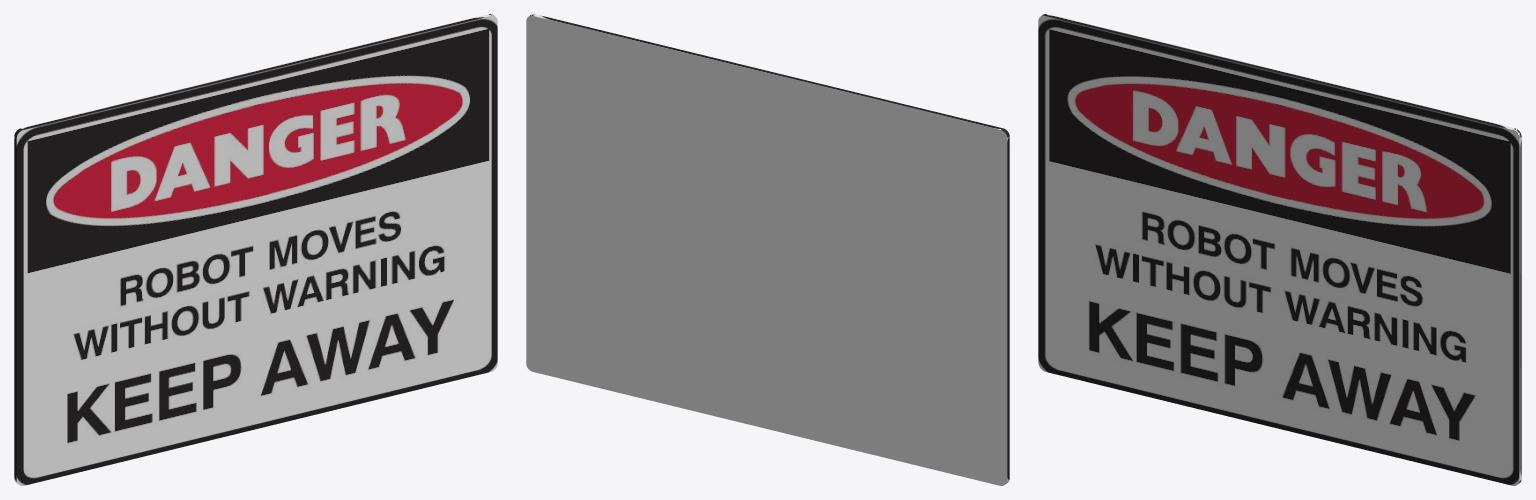
3 views of the same model, side by side, from view 1: azimuth 30°, elevation 25°; view 2: azimuth 150°, elevation 25°; view 3: azimuth 330°, elevation 25° (orthographic).
Parts seen in each view (by area): view 1: Danger_sign; view 2: Danger_sign (×2); view 3: Danger_sign.
Part boxes in pixels (x1,y1,x2,y2): Danger_sign: (14,14,497,485); Danger_sign (×2): (526,14,1009,485); Danger_sign: (1038,14,1521,485).
Size of the model in its own units: 11.63 by 0.1 by 8.22.
Materials: 2 (1 with a texture image).
